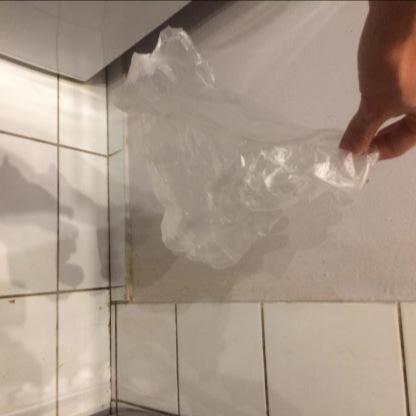Plastic bag - wrapper: (112, 25, 380, 269)
